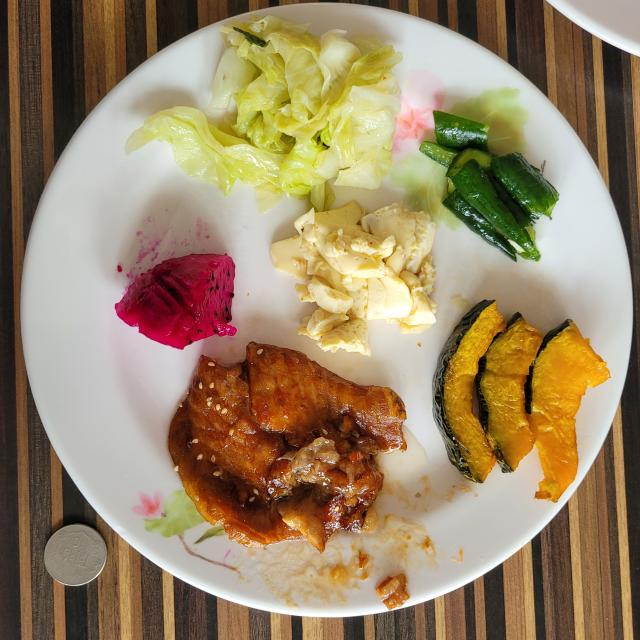Kabayaki sea bream fillet: (169, 342, 406, 551)
cabbage: (126, 15, 400, 209)
coin: (44, 524, 106, 586)
cucumber: (420, 111, 559, 261)
pumpkin: (432, 300, 610, 501)
